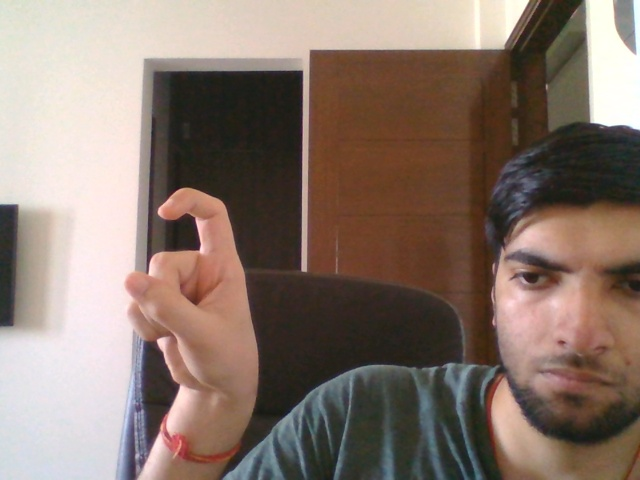LetterZ: (123, 184, 261, 405)
